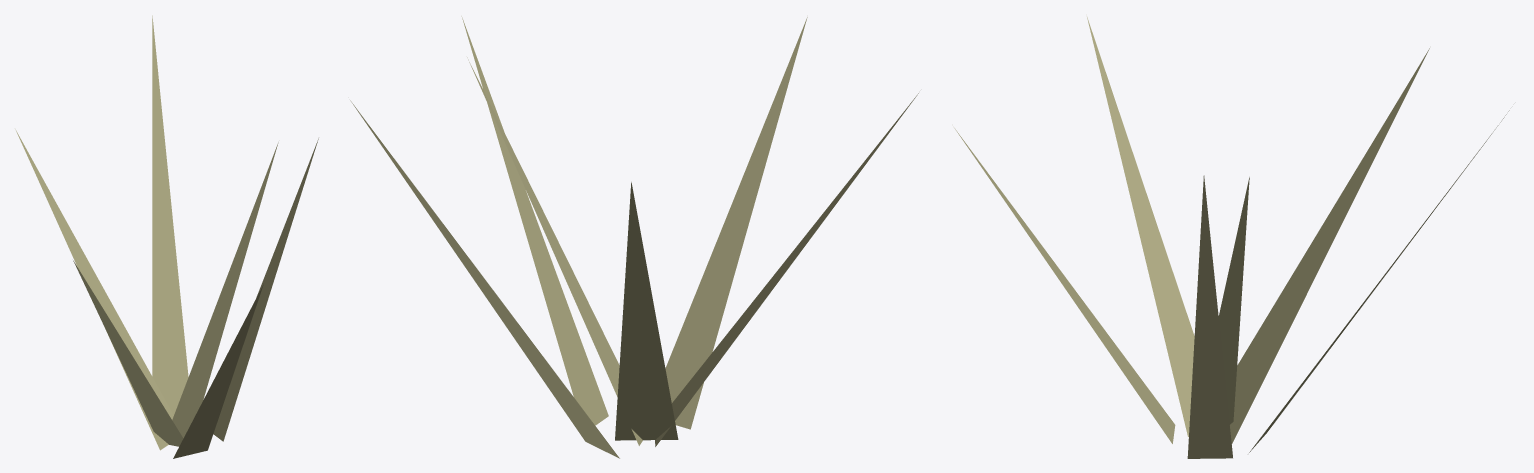
File: grass_tuft_b_LOD2.fbx
3 renders of one model, left to right at view 1: azimuth 30°, elevation 25°; view 2: azimuth 150°, elevation 25°; view 3: azimuth 270°, elevation 25°, orthographic. The views are drawn at different scales.
Visible parts, largest first — view 1: grass_tuft_b_LOD2; view 2: grass_tuft_b_LOD2; view 3: grass_tuft_b_LOD2.
Boxes of the visible parts, x1=… form: grass_tuft_b_LOD2: x1=15, y1=15, x2=318, y2=458; grass_tuft_b_LOD2: x1=350, y1=16, x2=918, y2=458; grass_tuft_b_LOD2: x1=954, y1=17, x2=1509, y2=458.
Size of the model in its own units: 59.33 by 61.07 by 78.81.
